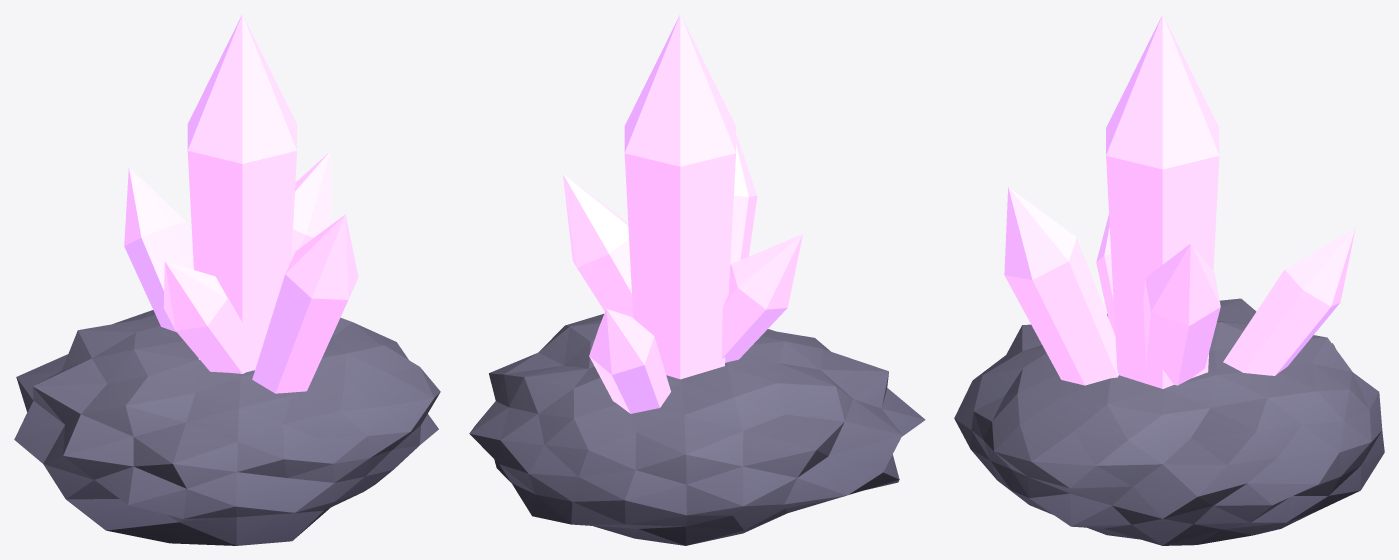
File: crystal_violet.glb
3 views of the same model, side by side, from view 1: azimuth 30°, elevation 25°; view 2: azimuth 150°, elevation 25°; view 3: azimuth 270°, elevation 25° (orthographic). The views are drawn at different scales.
Parts seen in each view (by area): view 1: crystal_violet; view 2: crystal_violet; view 3: crystal_violet.
Boxes of the visible parts, x1,y1,x2,y2 form: crystal_violet: (14,14,440,545); crystal_violet: (469,14,925,545); crystal_violet: (954,14,1384,545).
Size of the model in its own units: 1.16 by 1.4 by 1.11.
